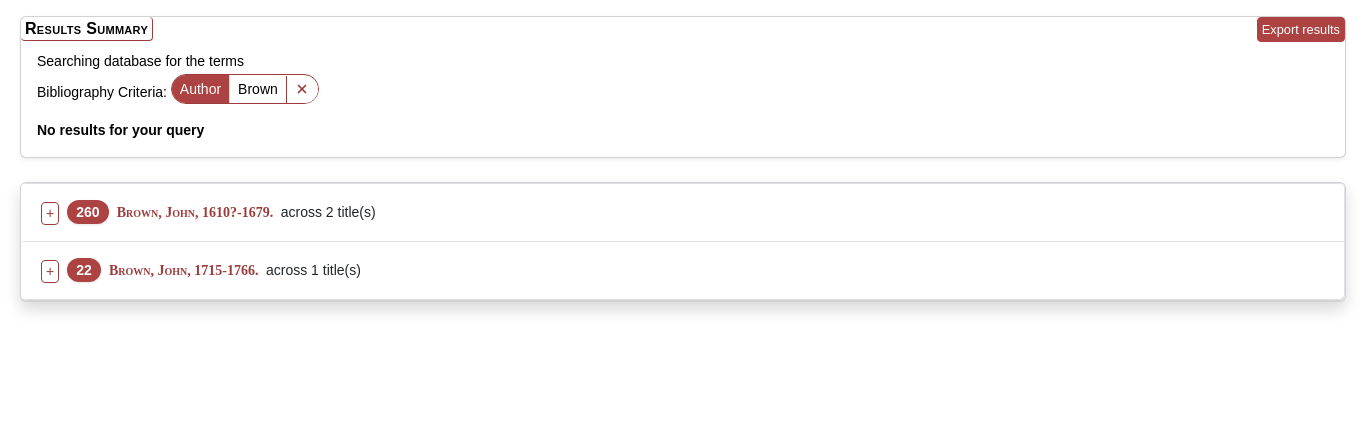
Test: Aggregation › collapses breakdown on second click
What coordinates should you click on to do the following:
click the button "+" next to "260"
I would click on:
 (50, 213)
Its box is [41,202,59,225].
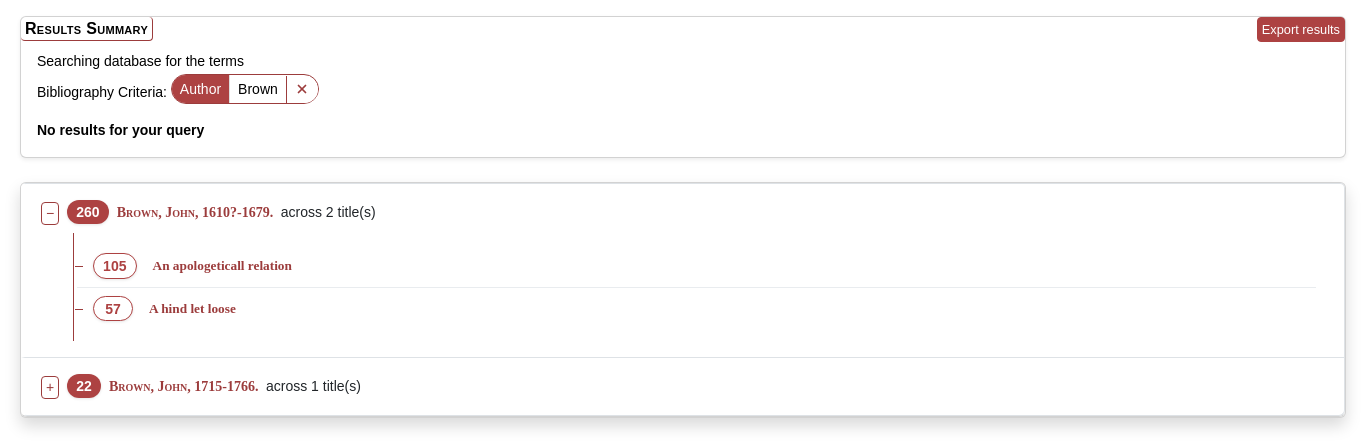
What coordinates should you click on to do the following:
click the button "−"
I would click on:
 (50, 213)
Its box is [41,202,59,225].
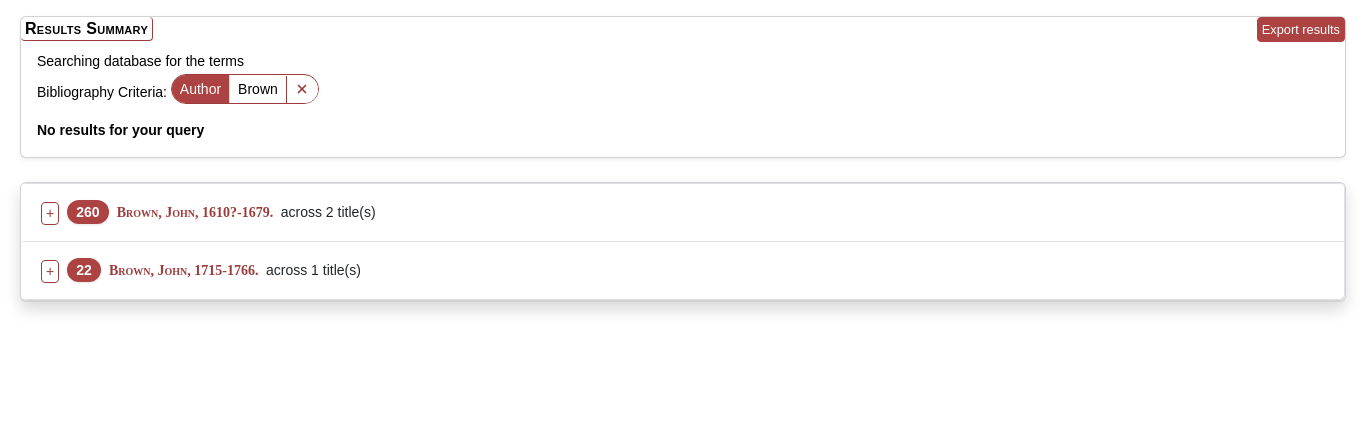
Now the button "+" next to "260" is collapsed, box [41,202,59,225]
